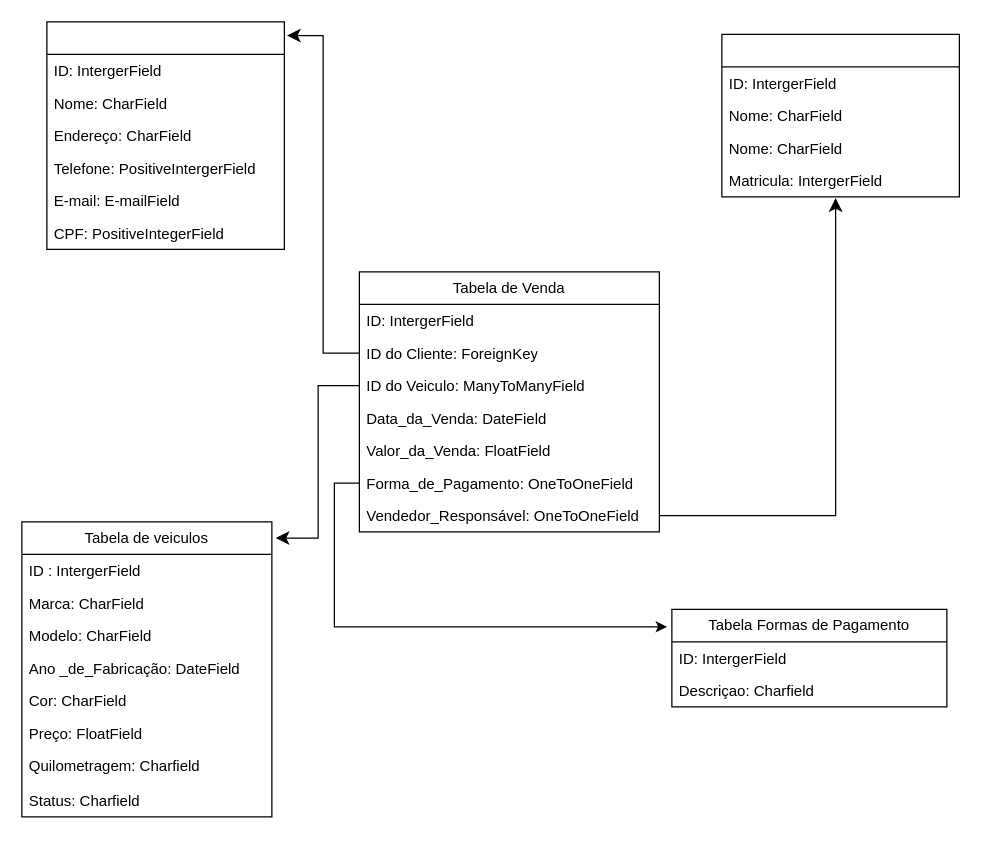
The diagram is 981 pixels wide and 843 high, and some of its shapes have lost their labels. Here are the shapes that lost their labels. From the top down, the box of each, then its label:
(46, 21, 284, 249): Tabela de Clientes
(721, 33, 959, 197): Tabela Vendedor
